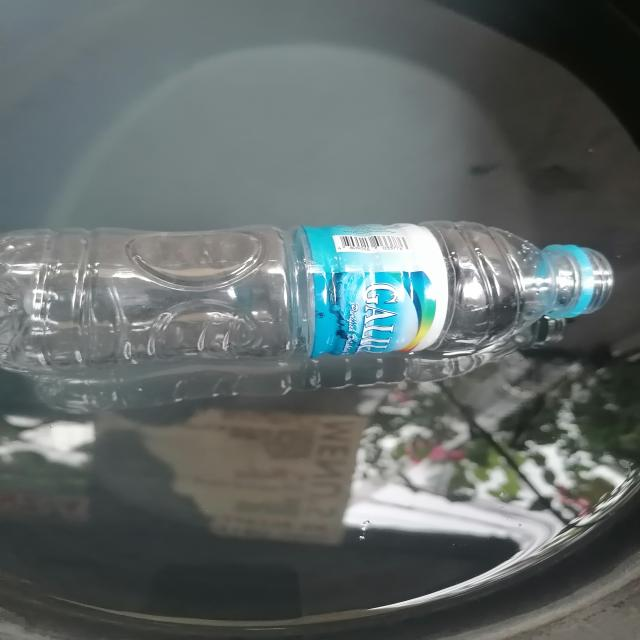Plastic Bottle: (0, 221, 614, 386)
